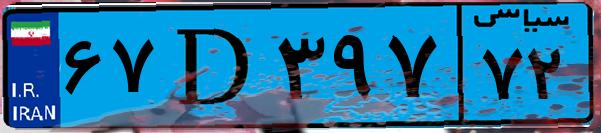2: (525, 38, 570, 115)
3: (270, 28, 330, 110)
6: (57, 26, 110, 100)
7: (385, 28, 445, 110), (475, 38, 525, 113), (110, 28, 158, 98)
9: (330, 28, 385, 110)
D: (158, 12, 270, 120)
